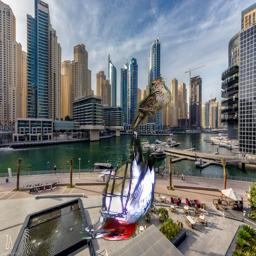Sparrow: (130, 77, 173, 132)
Woodpecker: (78, 126, 157, 241)
